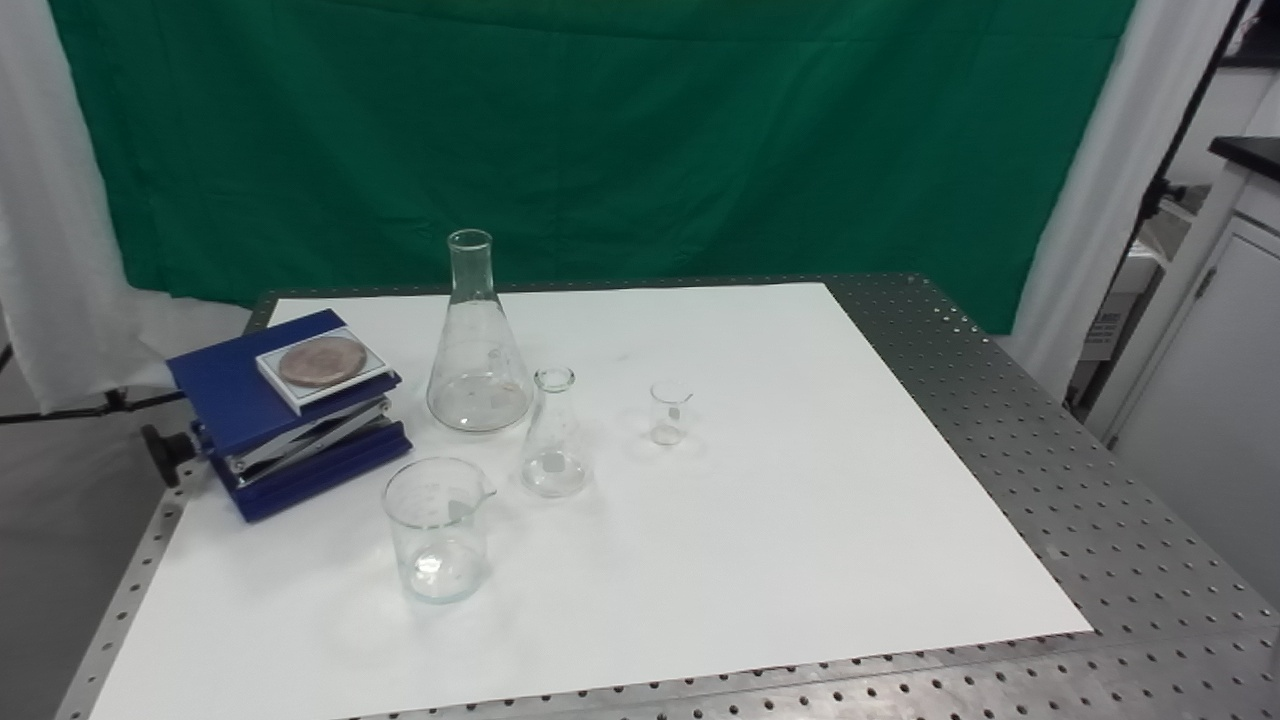glass: (423, 223, 540, 442), (378, 454, 505, 610), (515, 362, 591, 504), (645, 376, 696, 449)
plate: (250, 321, 400, 420)
